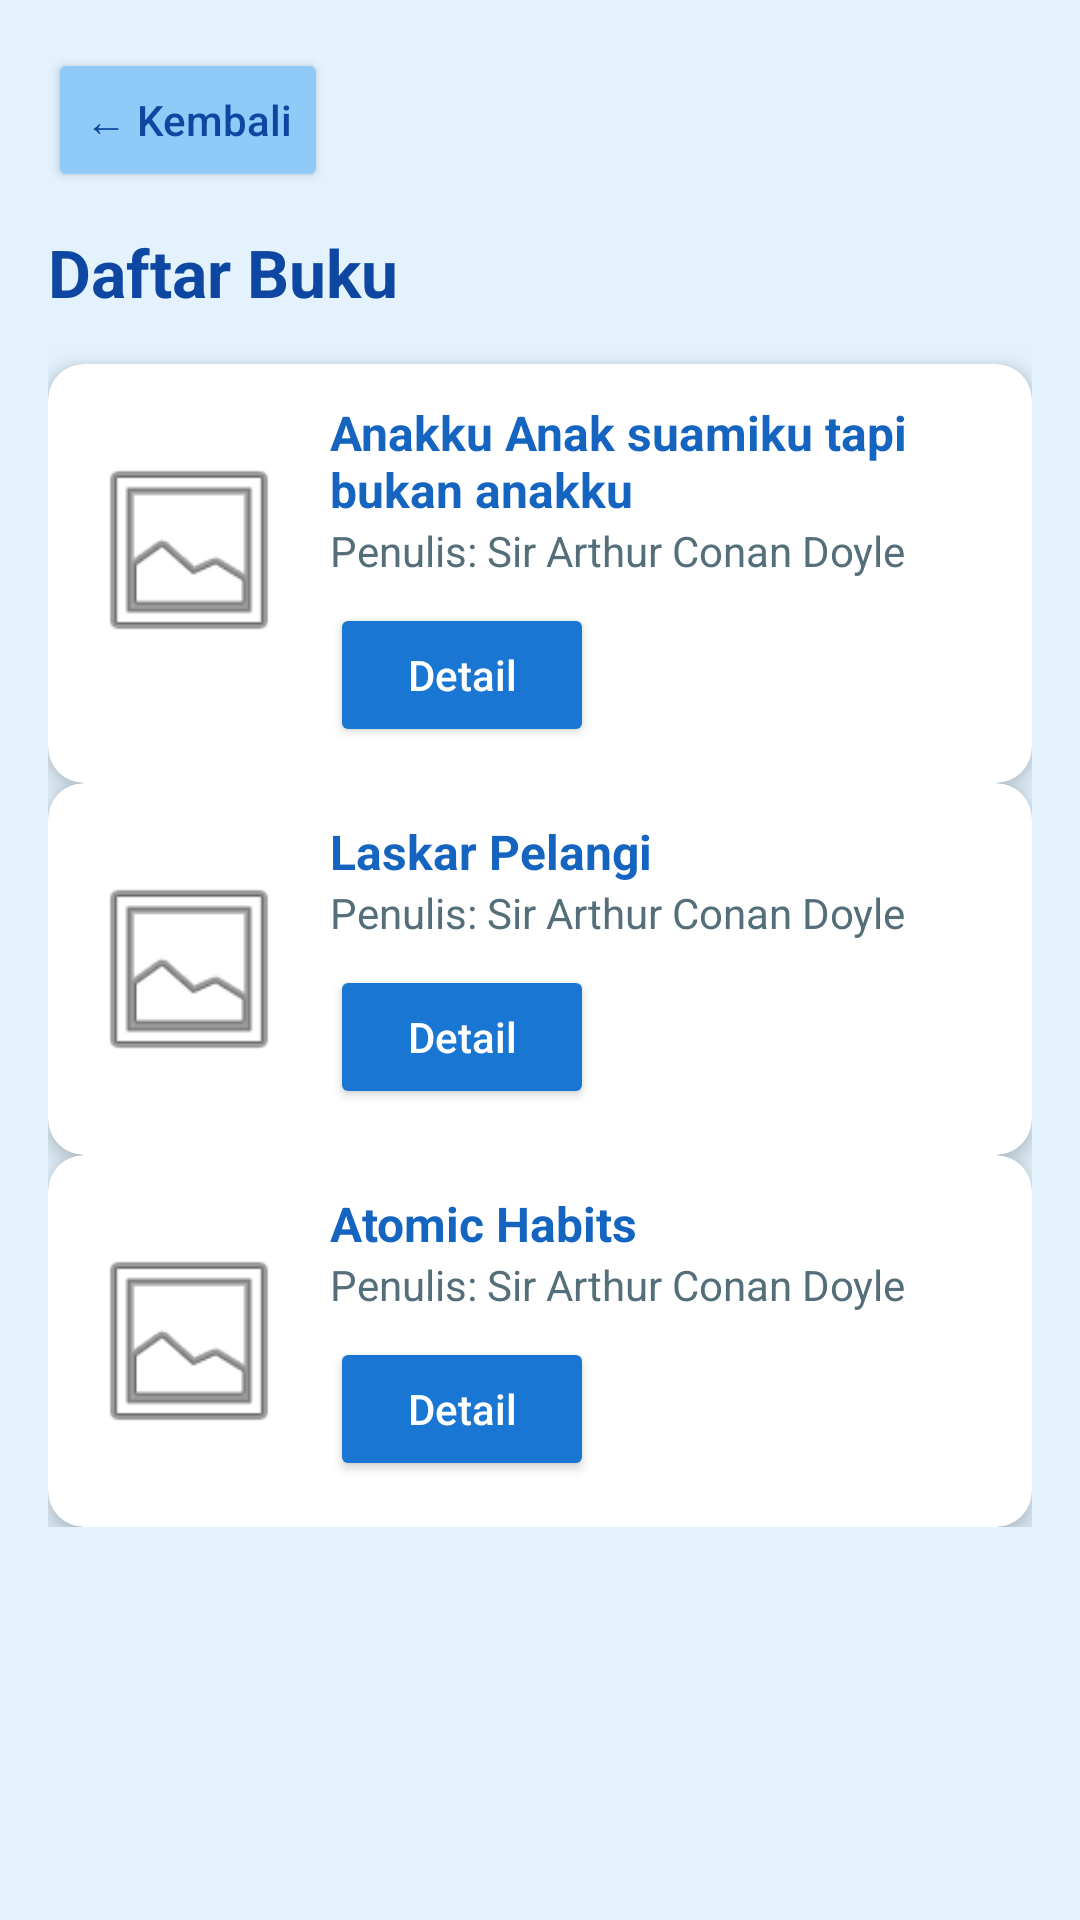

Screen size 1080*1920. Icon name, then its center in pixels as (x=x, y=y):
gallery: (x=189, y=550), (x=189, y=969), (x=189, y=1341)
